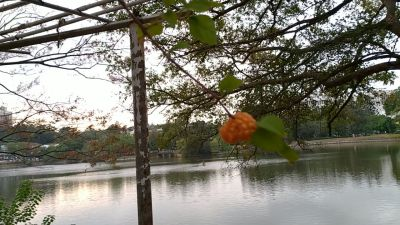eggs: (219, 112, 259, 143)
